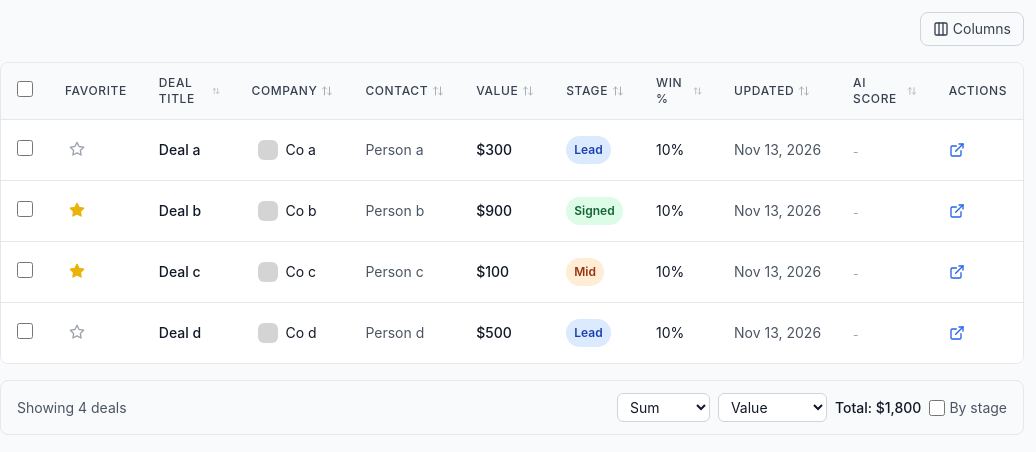
Test: inline cell editing in table rows › Escape cancels without saving
The width and height of the screenshot is (1036, 452).
Click the button with aria-label "Edit Title" at [180, 150], box [155,140,204,160]
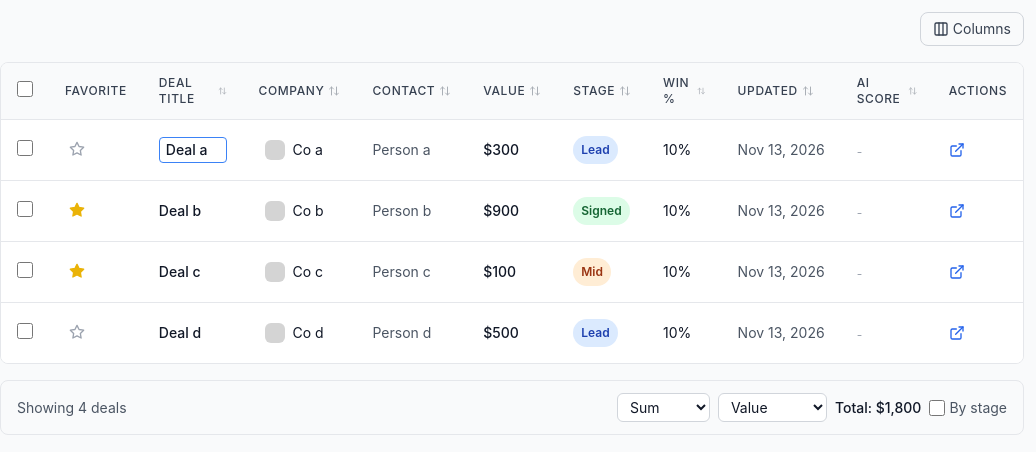
Replace the text in the field named "Title" with "Changed" at [193, 150], box [159,137,226,163]
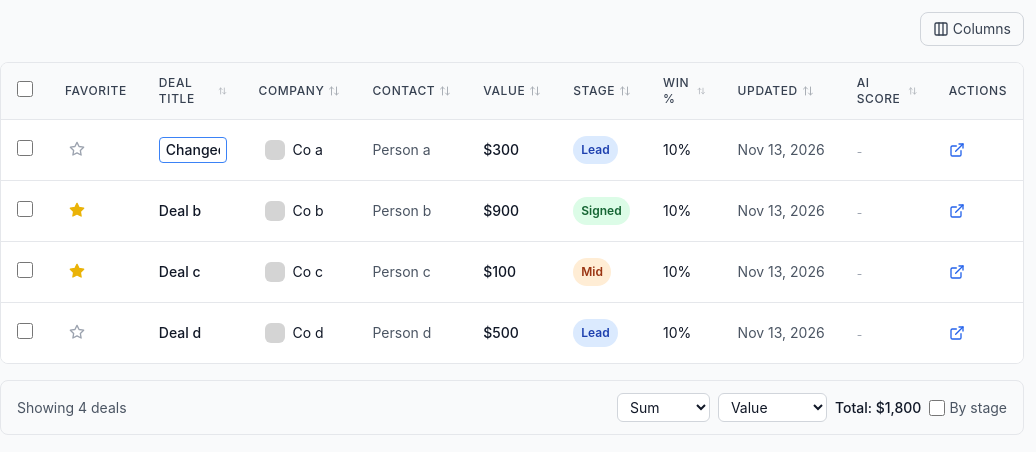
Press Escape in the field named "Title", box [159,137,226,163]
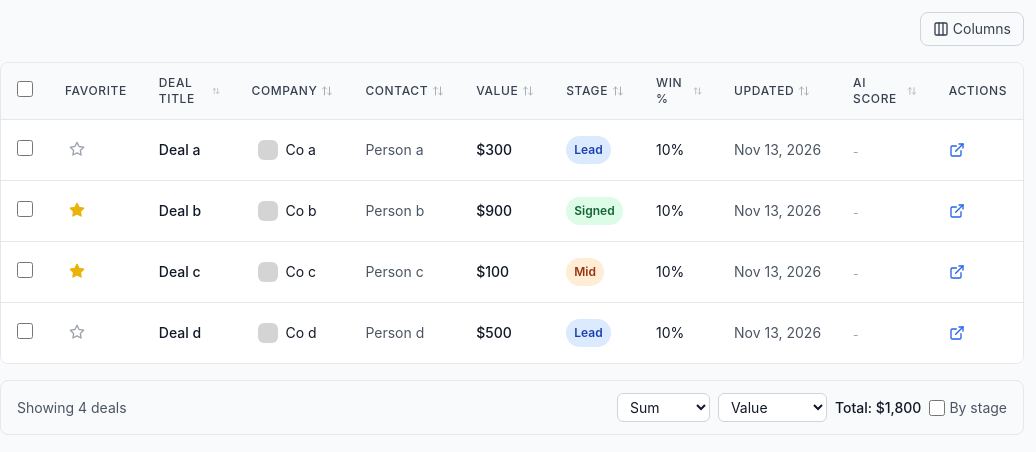
Check: the button "Deal a" is shown, box [155,140,204,160]
